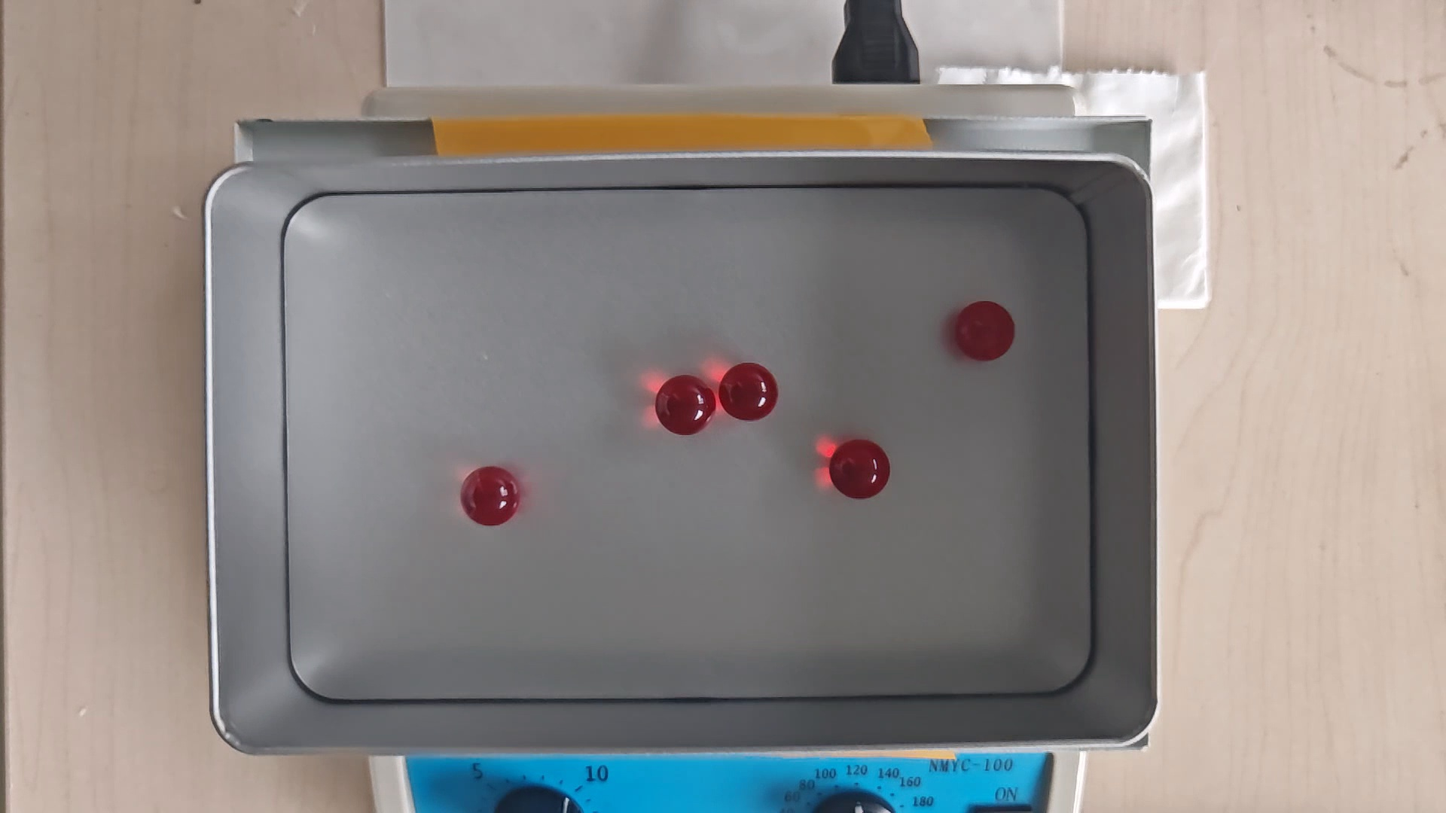ball: (459, 465, 524, 525), (829, 440, 891, 500), (718, 363, 781, 422), (955, 302, 1016, 361), (656, 376, 715, 436)
container: (283, 191, 1091, 699)
